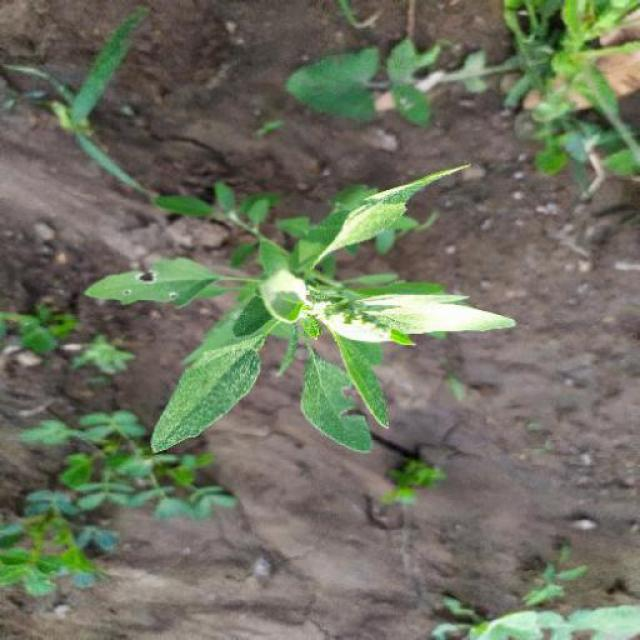weed: (15, 152, 504, 452), (386, 1, 639, 195), (1, 442, 240, 598)
